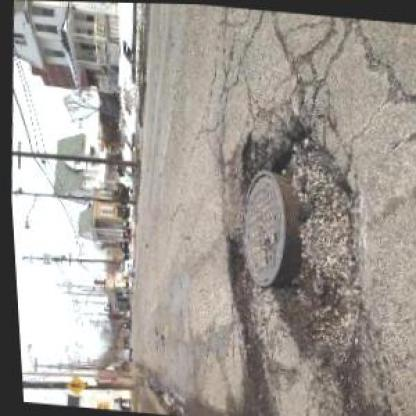pothole: (221, 113, 378, 372), (215, 232, 256, 314)
